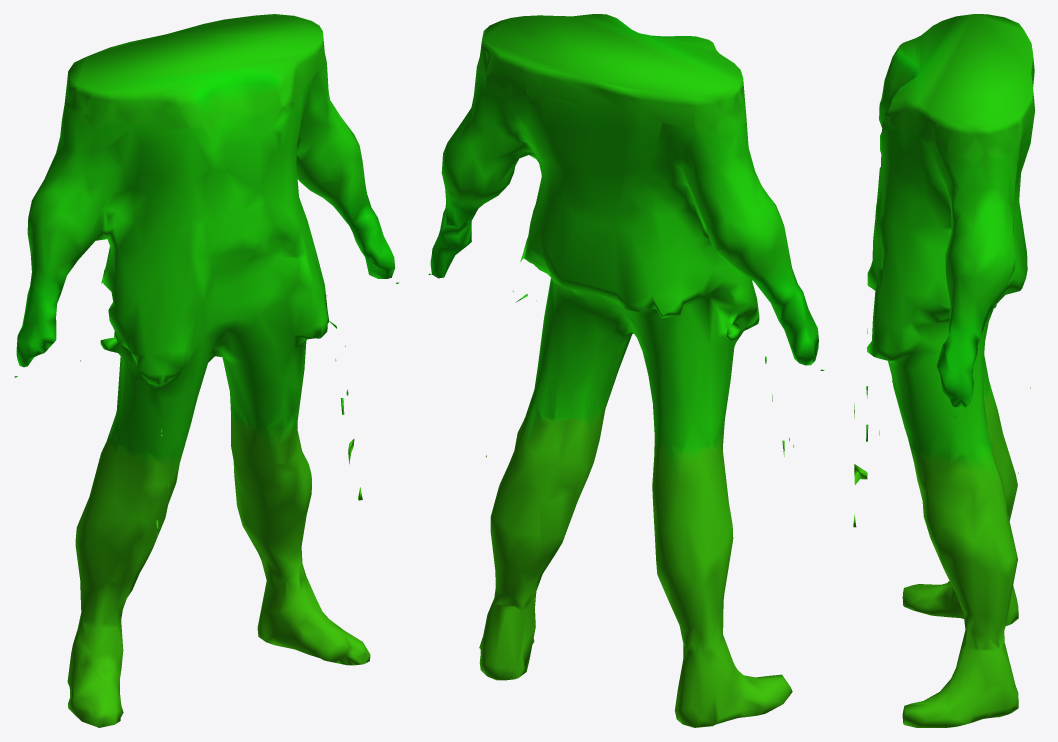
The model's file is compose_captain.glb.
3 views of the same model, side by side, from view 1: azimuth 30°, elevation 25°; view 2: azimuth 150°, elevation 25°; view 3: azimuth 270°, elevation 25° (orthographic). The views are drawn at different scales.
Parts seen in each view (by area): view 1: compose_captain; view 2: compose_captain; view 3: compose_captain.
Boxes of the visible parts, <box> form: compose_captain: <box>14,14,398,727</box>; compose_captain: <box>428,14,824,727</box>; compose_captain: <box>853,14,1035,727</box>.
Size of the model in its own units: 0.9631 by 1.48 by 0.4287.
